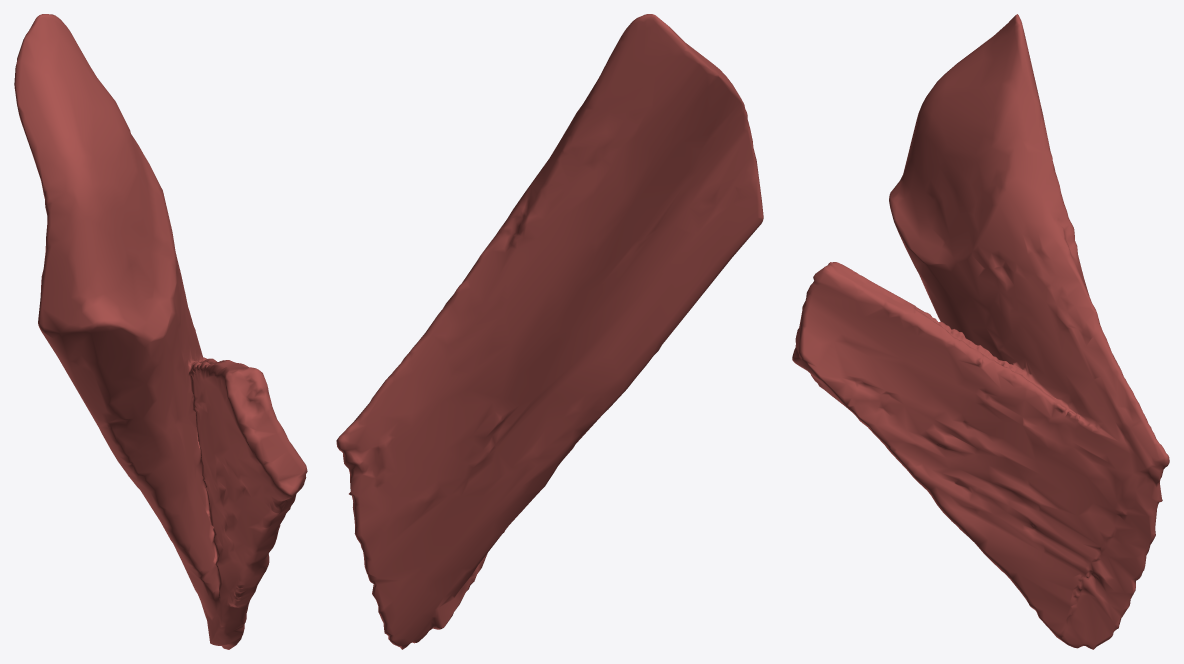
The model's file is FMA49013.glb.
3 views of the same model, side by side, from view 1: azimuth 30°, elevation 25°; view 2: azimuth 150°, elevation 25°; view 3: azimuth 270°, elevation 25° (orthographic). The views are drawn at different scales.
Visible parts, largest first — view 1: FMA49013; view 2: FMA49013; view 3: FMA49013.
Part boxes in pixels (bbox=[...]): FMA49013: bbox=[14, 14, 307, 649]; FMA49013: bbox=[336, 14, 763, 649]; FMA49013: bbox=[792, 14, 1169, 649].
Bounding box in the file's own units: 0.0217 × 0.0476 × 0.0296.
